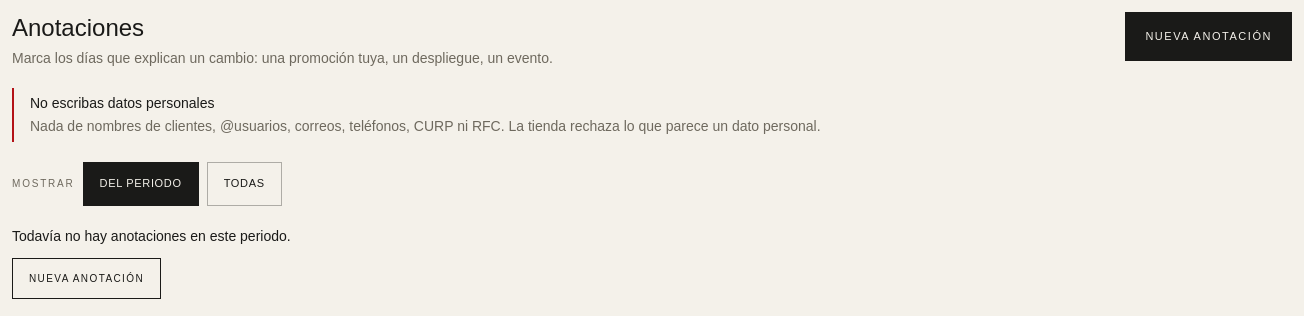
Test case: lista › vacío del periodo y vacío total tienen textos distintos
Check: the element with test id "mkt-ann-empty" shows "Todavía no hay anotaciones en este periodo.", box [12,228,291,244]
Click the button "Todas": x=244, y=184 [207,162,282,206]
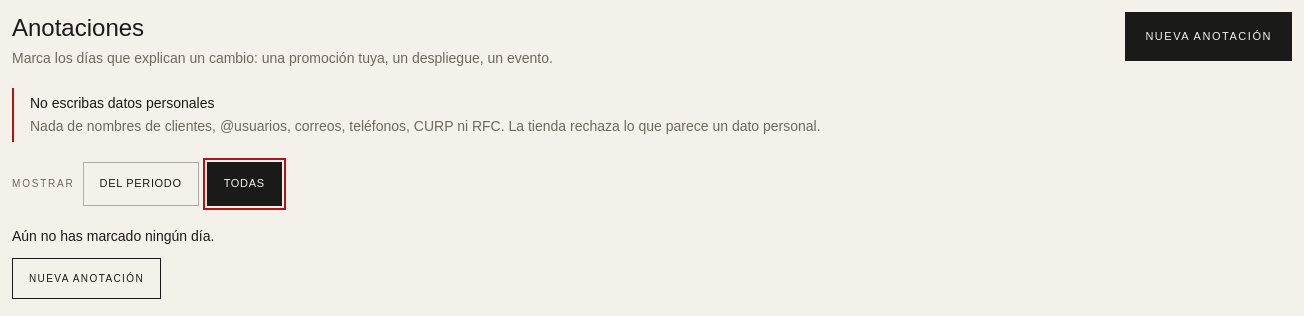
Check: the element with test id "mkt-ann-empty" shows "Aún no has marcado ningún día.", box [12,228,214,244]
